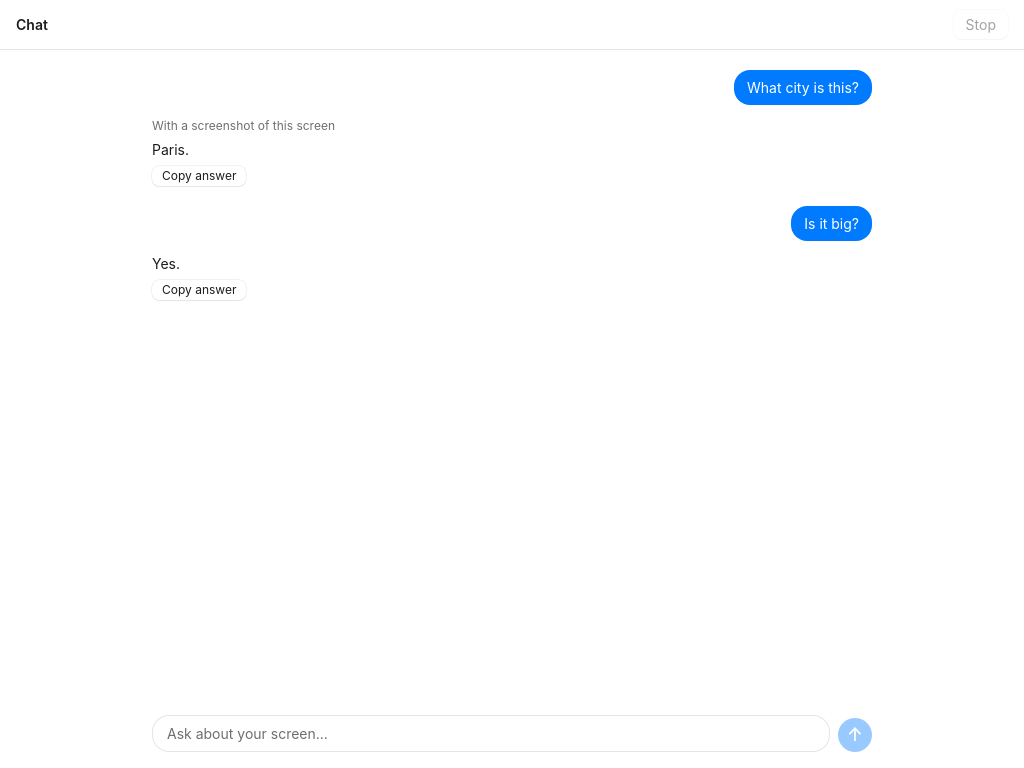
a reopened saved chat shows its turns and takes a follow-up under them
This screenshot has width=1024, height=768.
Expected: the element that starts with "What city is this?" shows "Paris.", [152,141,189,158]
Expected: the element that starts with "What city is this?" shows "With a screenshot of this screen", [152,118,335,133]
In the text box named "Question": {"x": 491, "y": 734} [152,715,830,752], type "How old is it?"
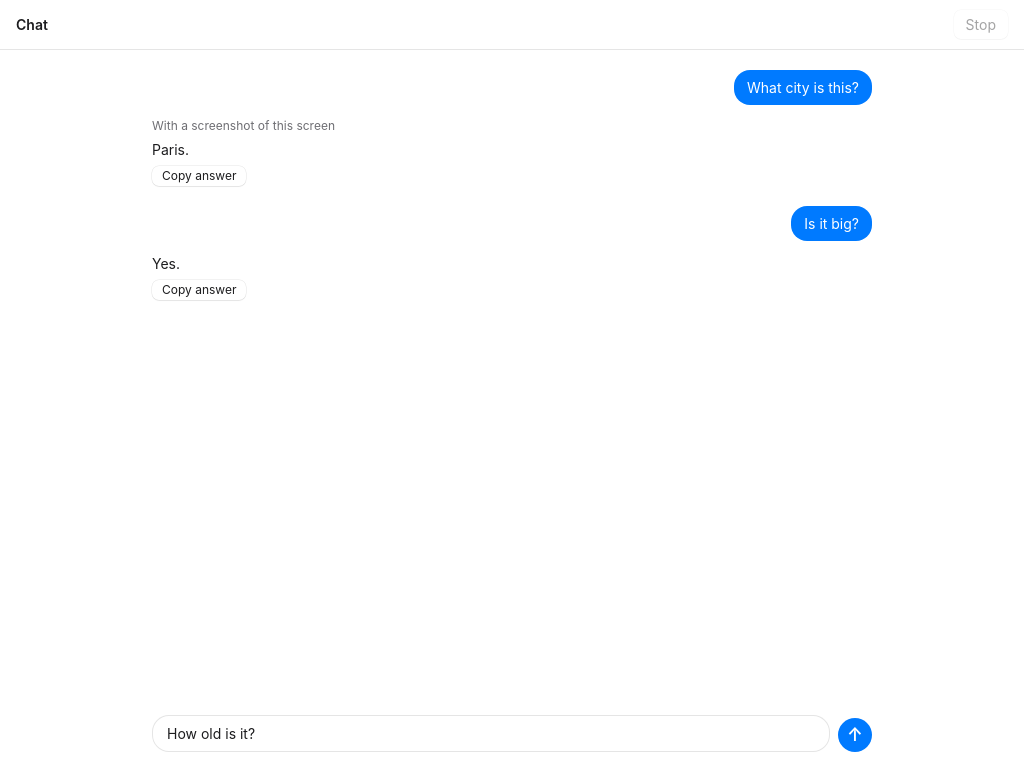
Click the button named "Ask": {"x": 855, "y": 735} [838,718,872,752]
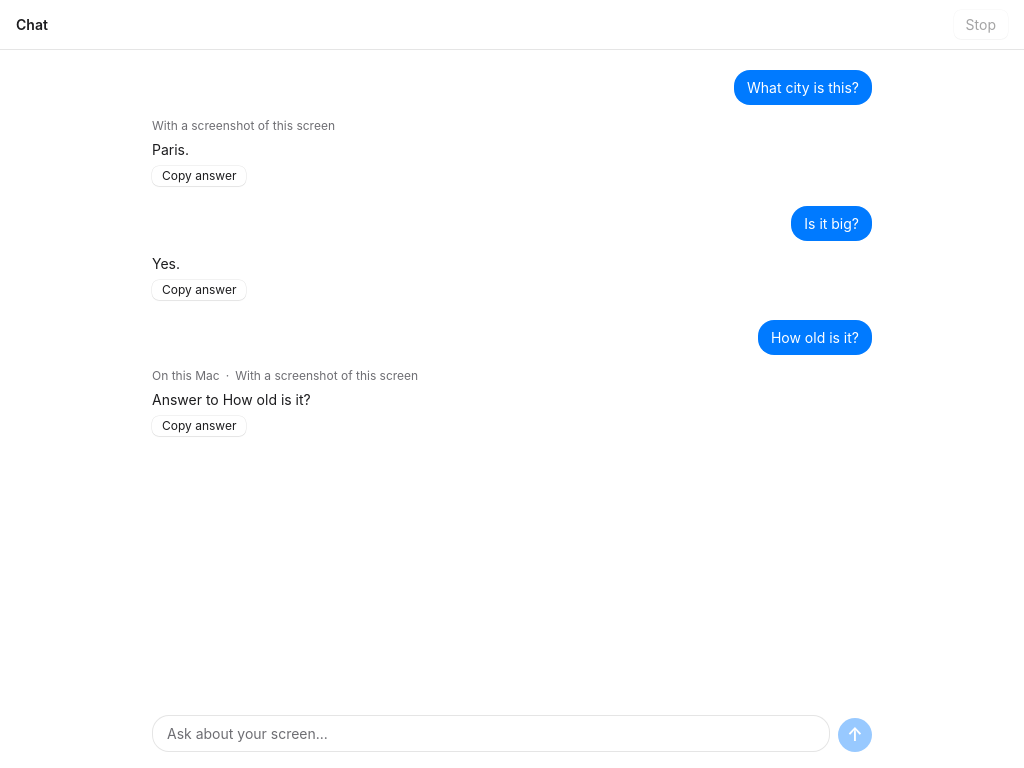
Now the element that starts with "How old is it?" shows "Answer to How old is it?", box [152,391,311,408]
